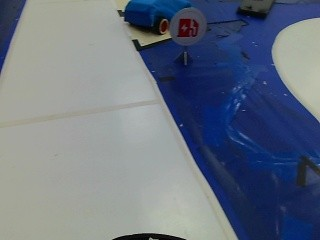battery: (174, 14, 202, 42)
